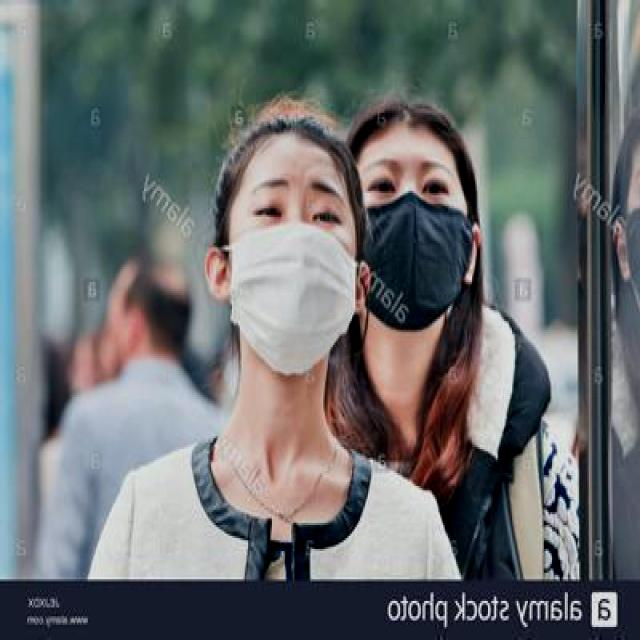face_mask: (227, 169, 360, 378), (354, 150, 474, 334)
head_nohelmet: (354, 92, 486, 155), (242, 94, 347, 172)
person: (94, 106, 381, 640), (353, 82, 582, 614)
